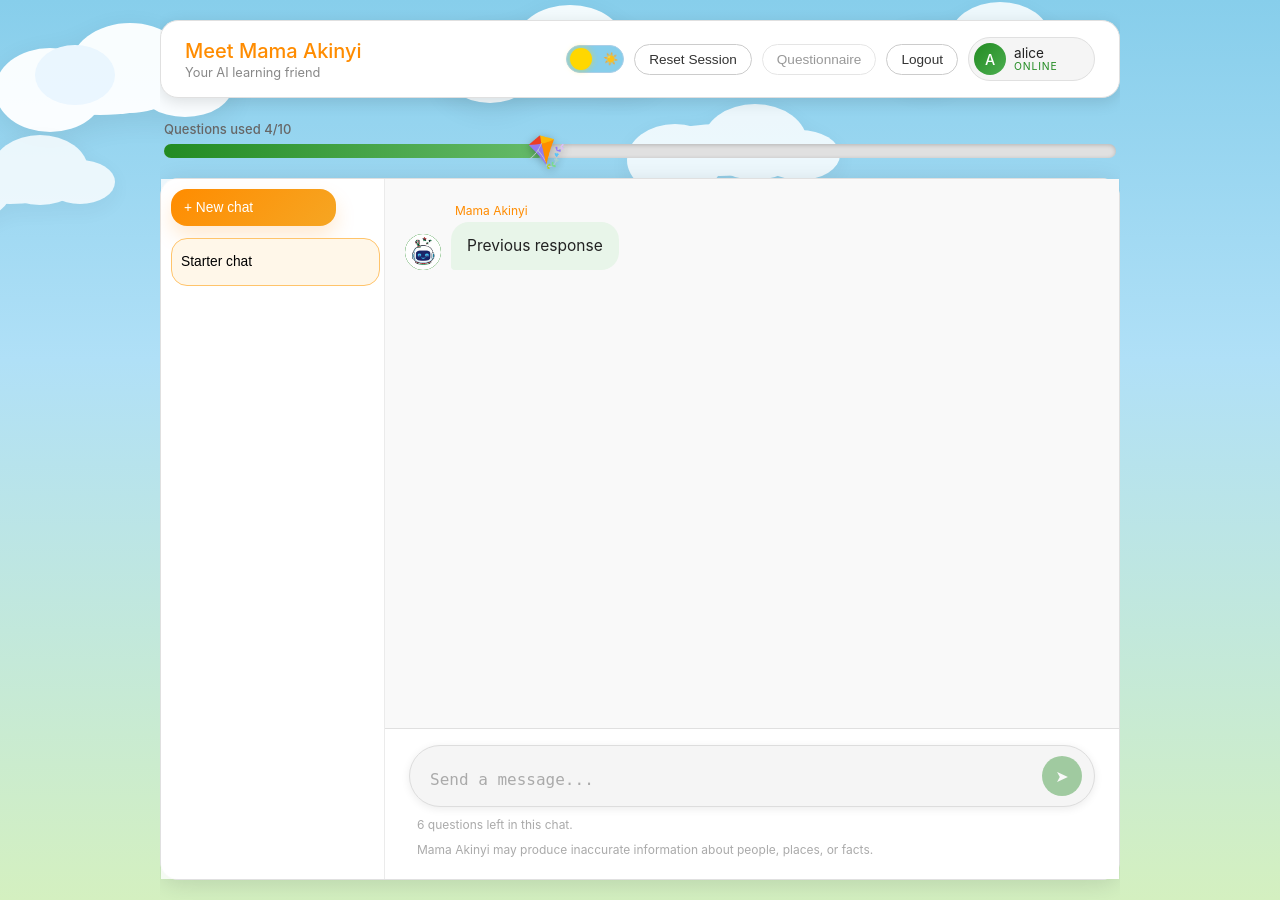
Test: reset chat clears current history
Expected: the text "Previous response" is shown, [467,234,603,258]
Click the button "Reset Session" at (693, 59), box [634,44,752,74]
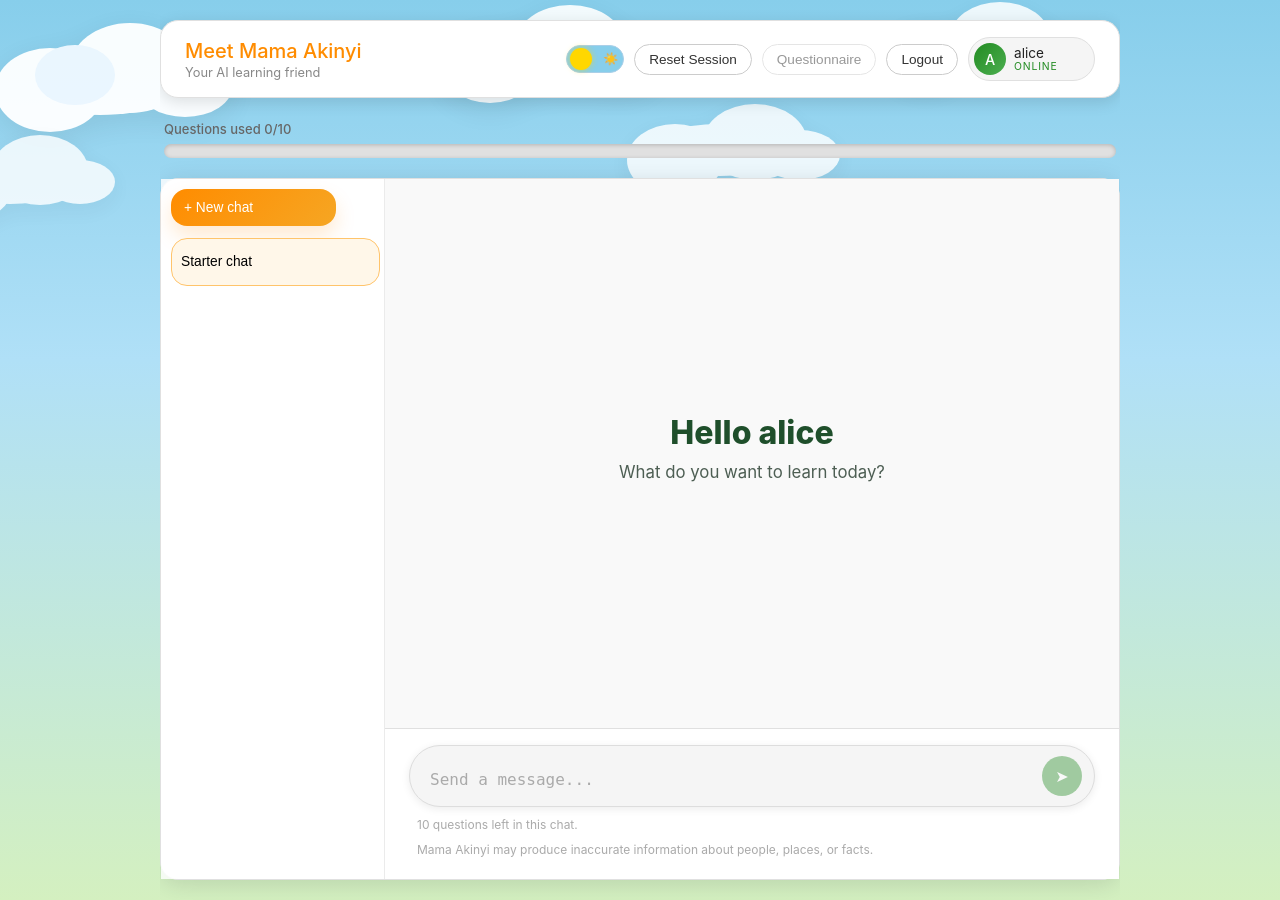
Result: the heading "Hello alice" is shown at [670,413,834,452]
Result: the text "What do you want to learn today?" is shown at [619,462,885,482]
Result: the text "Questions used 0/10" is shown at [164,121,291,137]
